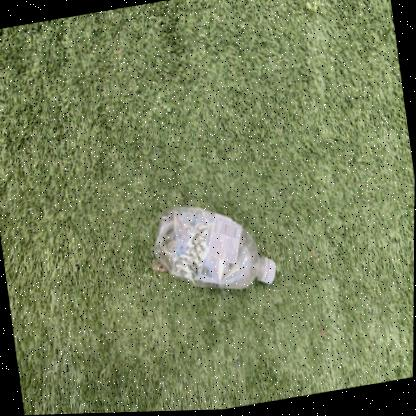Plastic: (148, 206, 276, 289)
